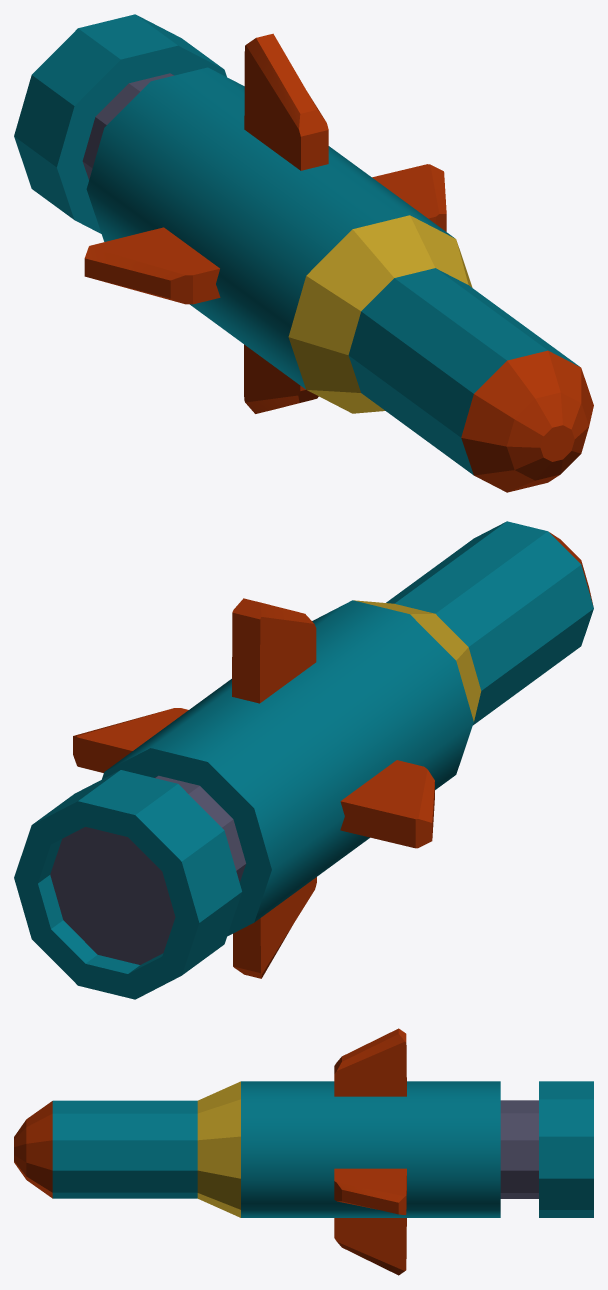
Rendered from skill.obj.
3 views of the same model, one above another, from view 1: azimuth 30°, elevation 25°; view 2: azimuth 150°, elevation 25°; view 3: azimuth 270°, elevation 25° (orthographic). The views are drawn at different scales.
Parts seen in each view (by area): view 1: Cylinder001; view 2: Cylinder001; view 3: Cylinder001.
Part boxes in pixels (x1,y1,x2,y2): Cylinder001: (14,14,593,492); Cylinder001: (14,521,593,999); Cylinder001: (14,1028,593,1275).
Size of the model in its own units: 26.02 by 26.02 by 56.53.
